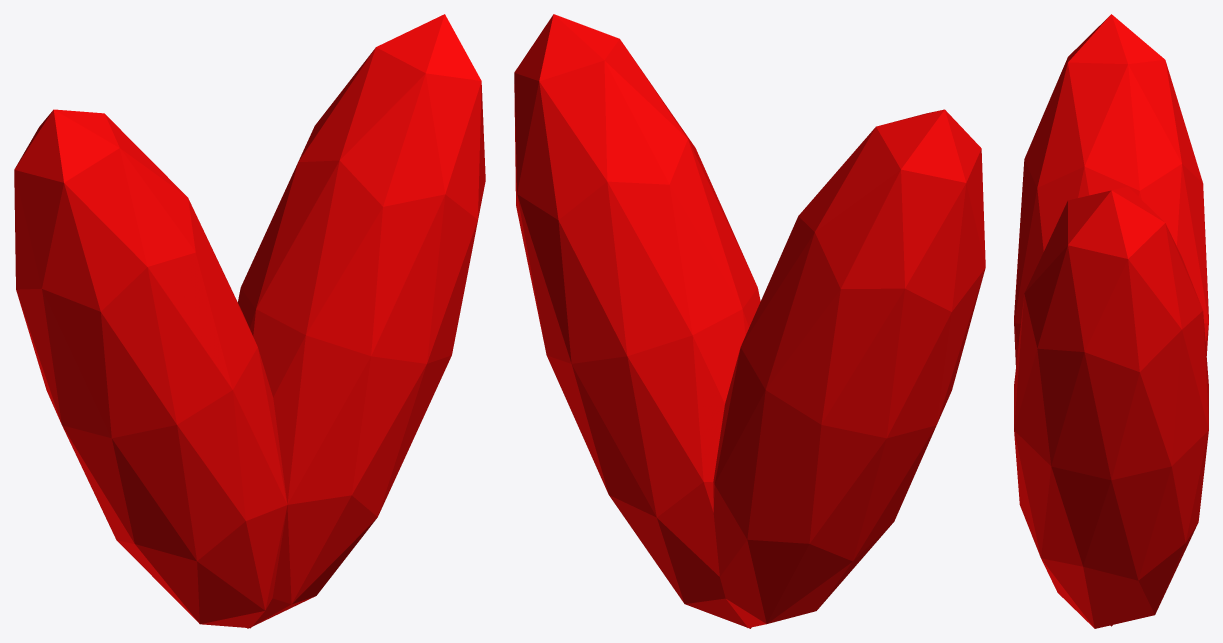
File: repressor_anim.glb
3 views of the same model, side by side, from view 1: azimuth 30°, elevation 25°; view 2: azimuth 150°, elevation 25°; view 3: azimuth 270°, elevation 25° (orthographic). The views are drawn at different scales.
Parts seen in each view (by area): view 1: Icosphere.001; view 2: Icosphere.001; view 3: Icosphere.001.
Boxes of the visible parts, bbox=[...] form: Icosphere.001: bbox=[14, 14, 485, 628]; Icosphere.001: bbox=[514, 14, 985, 628]; Icosphere.001: bbox=[1014, 14, 1208, 628].
Bounding box in the file's own units: 0.7058 × 0.8457 × 0.2853.
